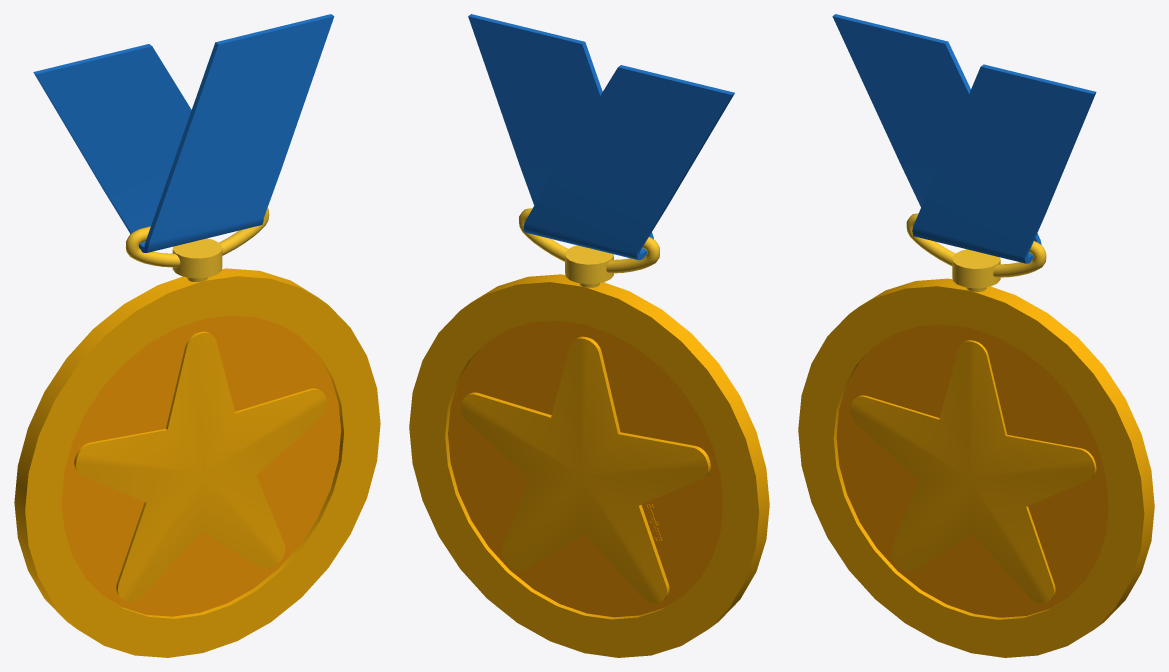
File: sports_medal.fbx
The picture shows the model from 3 angles, left to right: view 1: azimuth 30°, elevation 25°; view 2: azimuth 150°, elevation 25°; view 3: azimuth 330°, elevation 25°; orthographic projection. The views are drawn at different scales.
Parts seen in each view (by area): view 1: Circle.282; view 2: Circle.282; view 3: Circle.282.
Part boxes in pixels (bbox=[...]): Circle.282: bbox=[14, 14, 380, 657]; Circle.282: bbox=[409, 14, 769, 657]; Circle.282: bbox=[798, 14, 1154, 657].
Bounding box in the file's own units: 140 × 229 × 17.11.
1 material, 1 textured.
